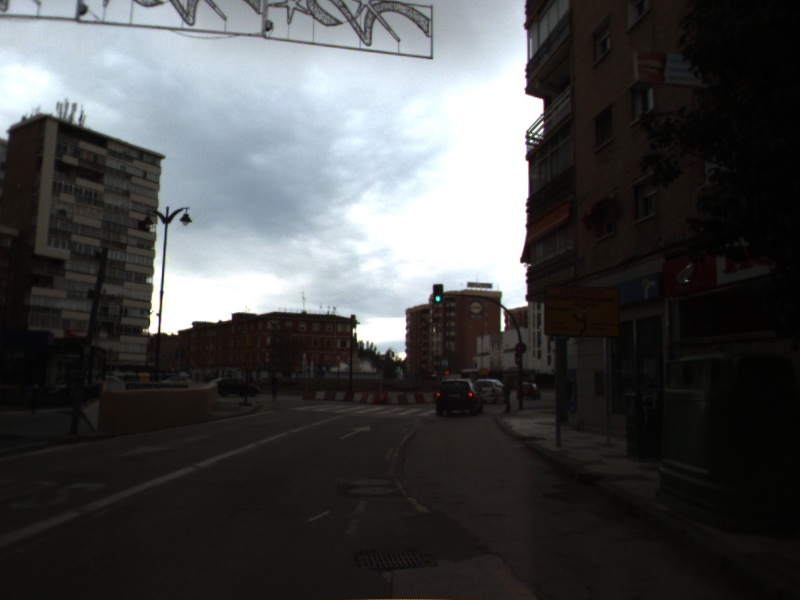STRAIGHT: (336, 423, 374, 442)
